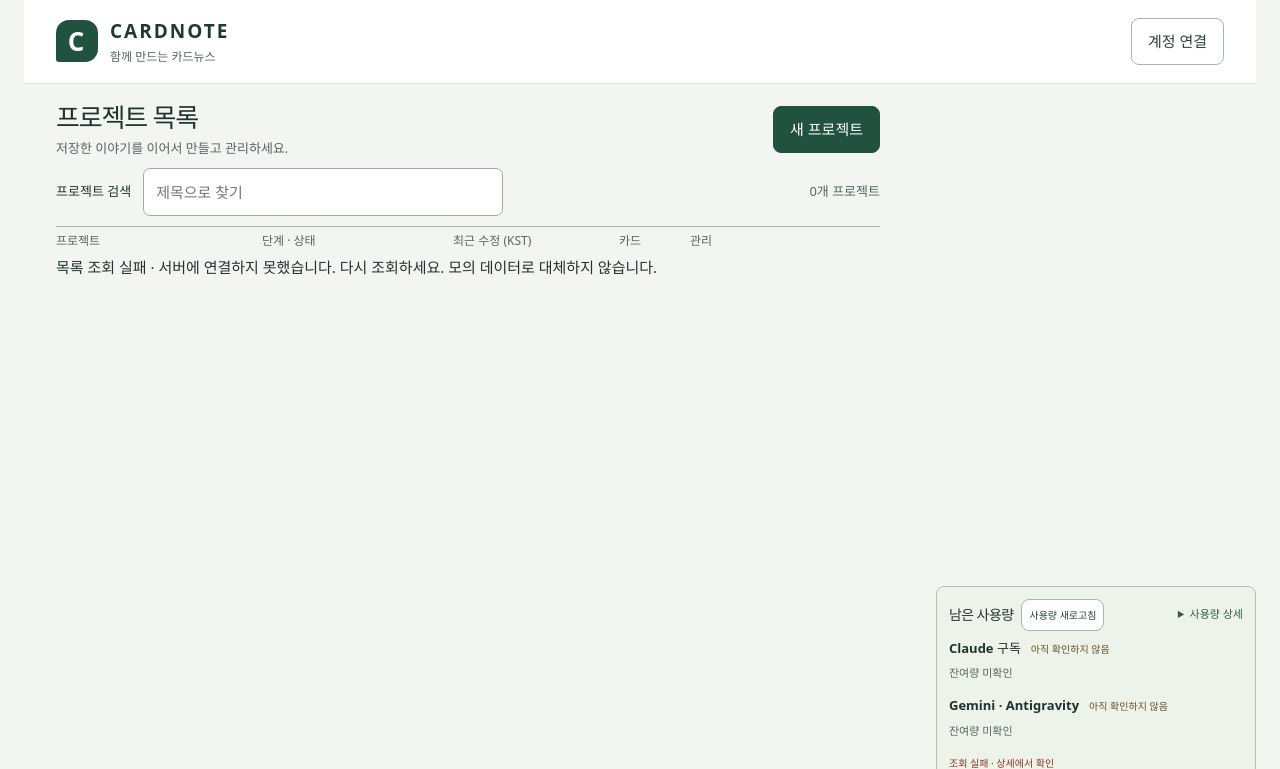
Test: 프로젝트 생성 전 연결 화면은 GET만 실행하고 명시 로그인은 중복 시작하지 않는다
Click the button "계정 연결".
click(1177, 42)  # box [1131, 18, 1224, 65]
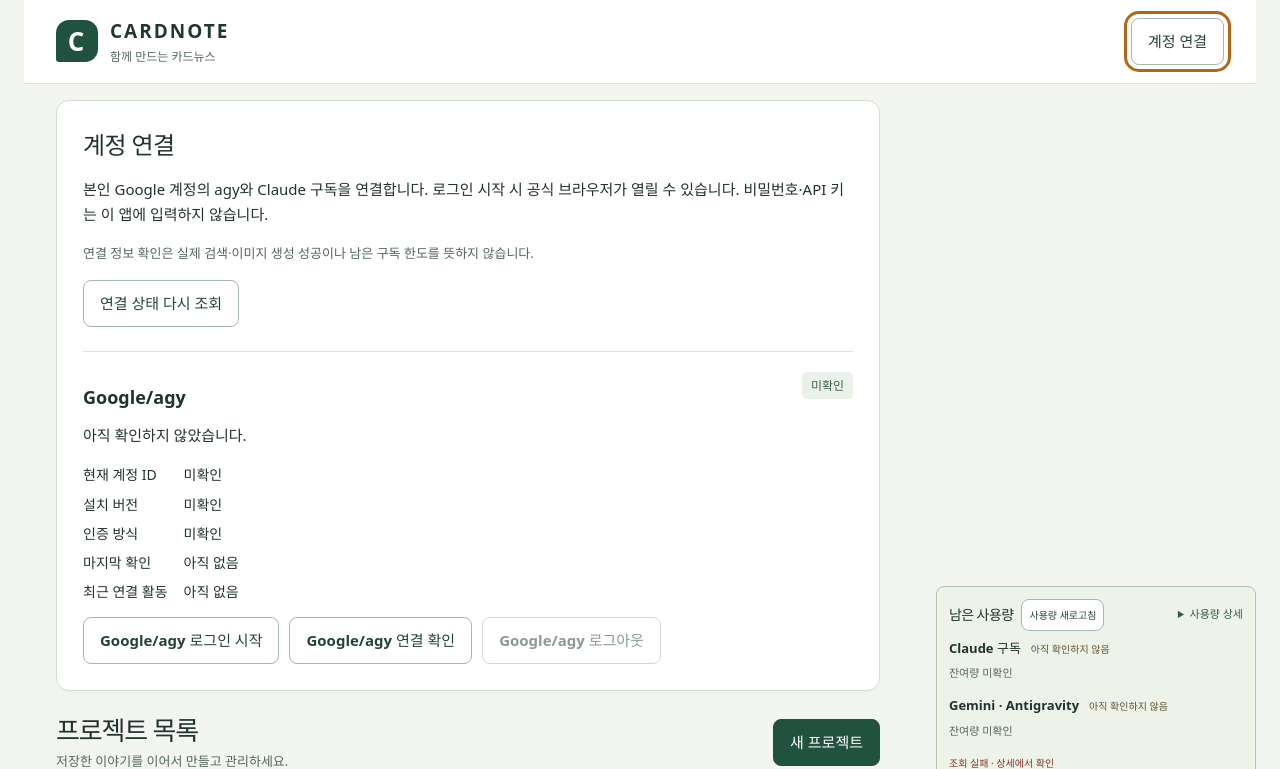
Result: the heading "Google/agy" is shown at [83, 384, 186, 411]
Click the button "Google/agy 로그인 시작".
click(181, 640)  # box [83, 617, 280, 664]
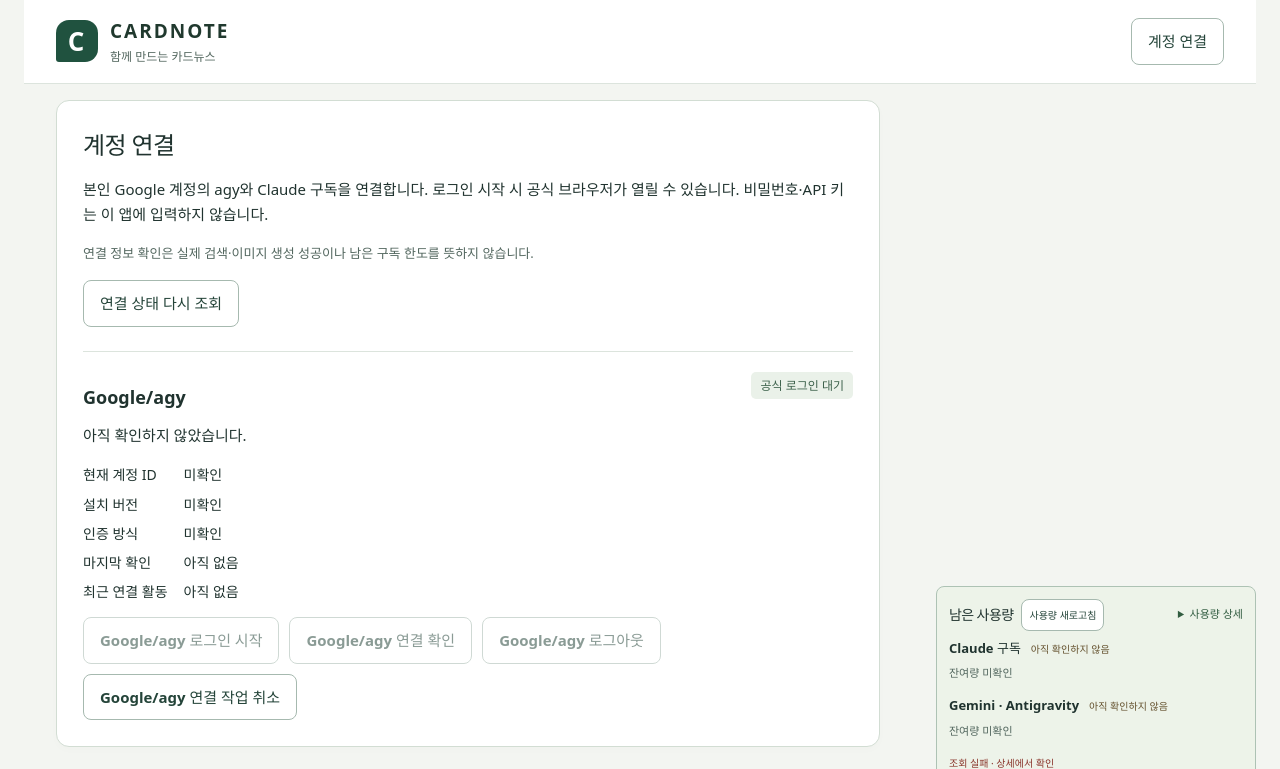
Result: the button "Google/agy 로그인 시작" is disabled at [83, 617, 280, 664]
